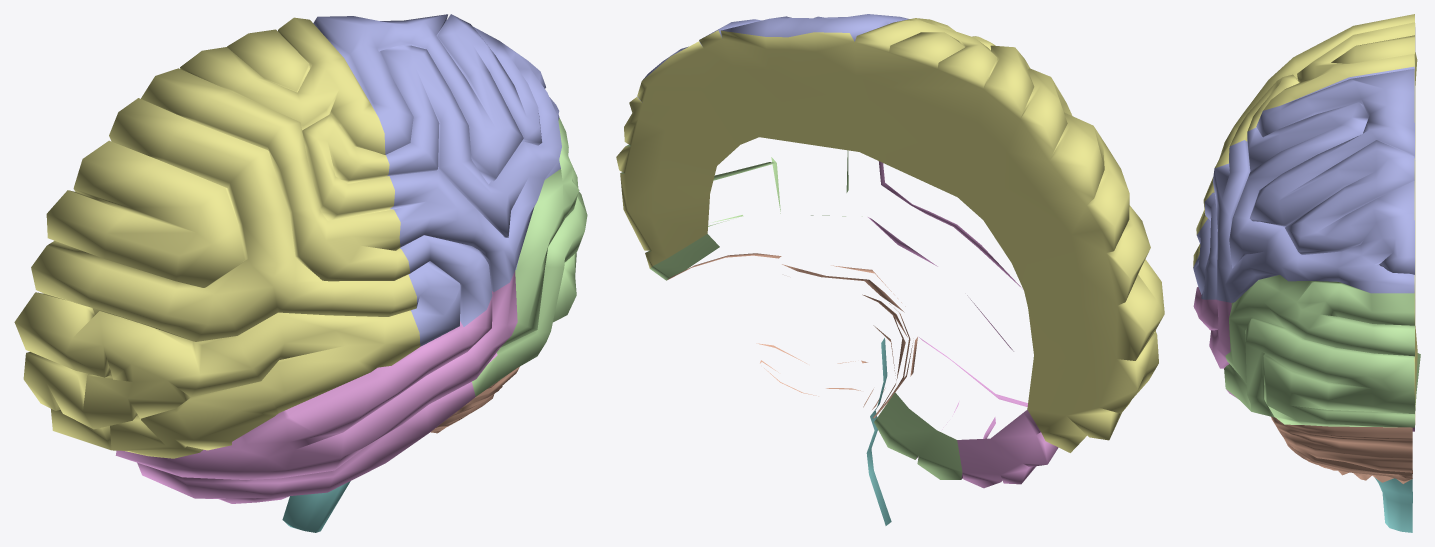
The model's file is brain3.gltf.
The picture shows the model from 3 angles, left to right: view 1: azimuth 30°, elevation 25°; view 2: azimuth 150°, elevation 25°; view 3: azimuth 270°, elevation 25°; orthographic projection. The views are drawn at different scales.
Visible parts, largest first — view 1: occipital, occipital.003, occipital.002; view 2: occipital, occipital.002, occipital.003; view 3: occipital, occipital.002, occipital.003.
Boxes of the visible parts, x1,y1,x2,y2 form: occipital: [14, 14, 587, 503]; occipital.003: [282, 481, 350, 532]; occipital.002: [430, 366, 519, 433]; occipital: [616, 14, 1164, 488]; occipital.002: [756, 264, 912, 418]; occipital.003: [866, 338, 891, 525]; occipital: [1193, 14, 1420, 431]; occipital.002: [1271, 416, 1412, 483]; occipital.003: [1374, 477, 1412, 532].
Bounding box in the file's own units: 7.59 × 6.84 × 3.
